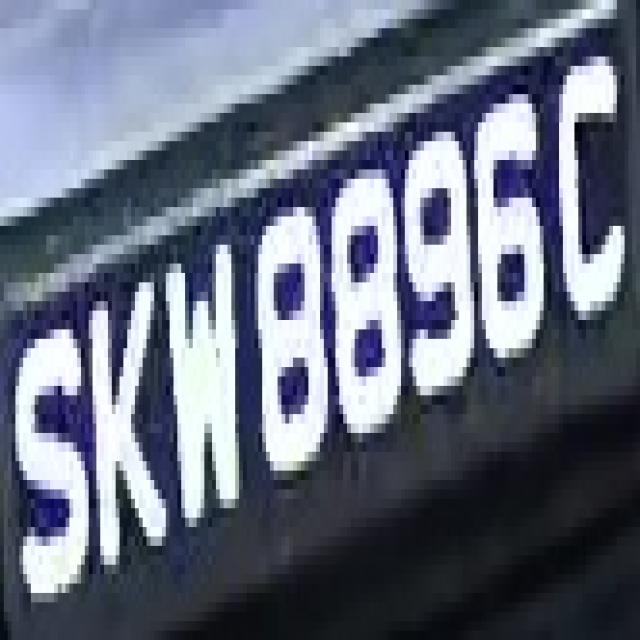6: (467, 75, 548, 386)
8: (316, 160, 416, 442), (254, 170, 332, 518)
9: (393, 104, 482, 414)
C: (544, 47, 632, 329)
K: (84, 254, 170, 602)
S: (12, 282, 92, 630)
W: (158, 216, 251, 564)
